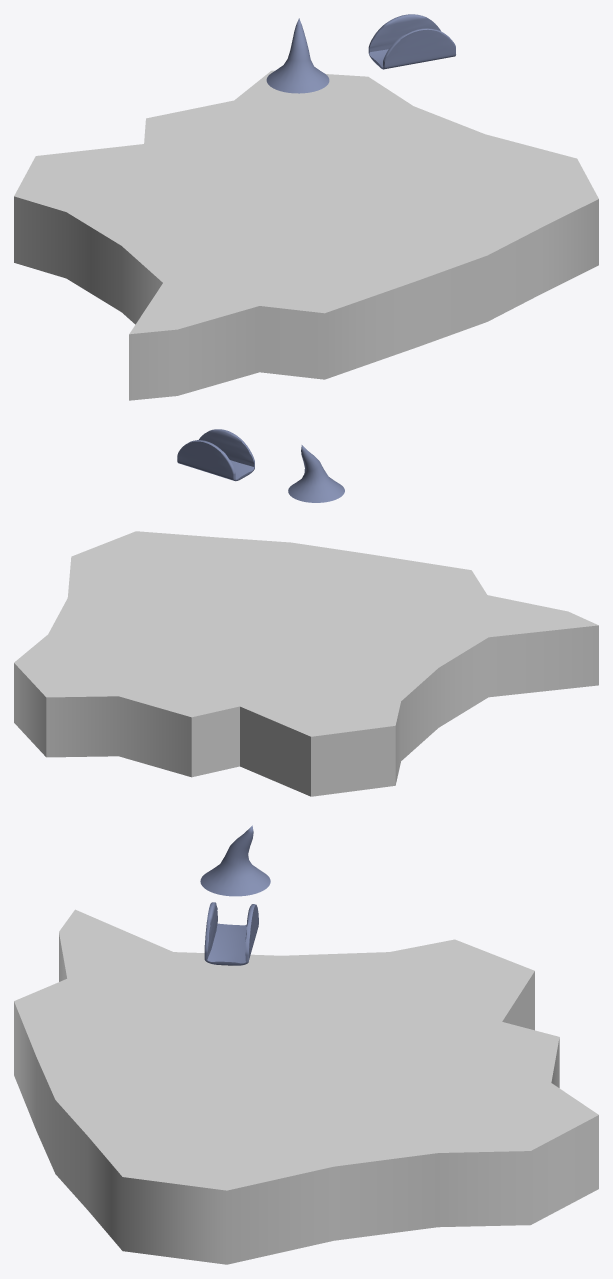
The model's file is stuff.fbx.
The picture shows the model from 3 angles, top to bottom: view 1: azimuth 30°, elevation 25°; view 2: azimuth 150°, elevation 25°; view 3: azimuth 270°, elevation 25°; orthographic projection. The views are drawn at different scales.
Parts seen in each view (by area): view 1: cylinder, polymsh7, cone; view 2: cylinder, polymsh7, cone; view 3: cylinder, cone, polymsh7.
Boxes of the visible parts, x1,y1,x2,y2 form: cylinder: (14, 70, 598, 400); polymsh7: (368, 14, 455, 69); cone: (266, 18, 329, 93); cylinder: (14, 531, 598, 796); polymsh7: (177, 429, 254, 481); cone: (288, 445, 344, 502); cylinder: (14, 909, 598, 1264); cone: (200, 825, 270, 896); polymsh7: (204, 902, 258, 965).
Size of the model in its own units: 122 by 59.61 by 107.
